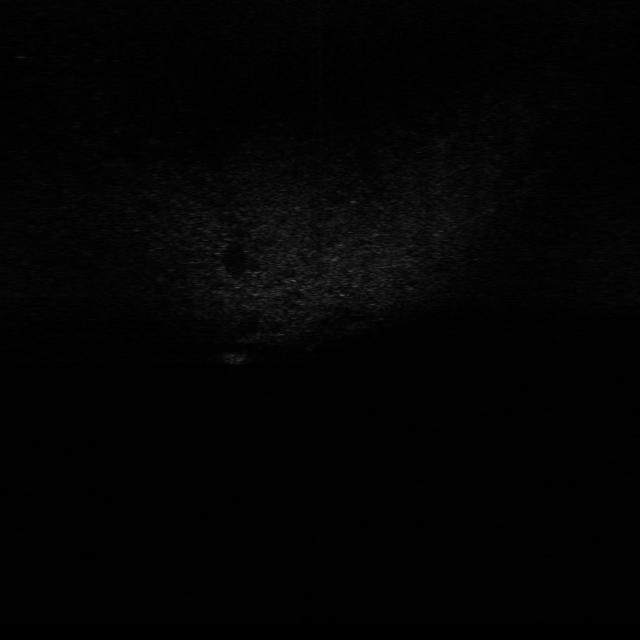cube: (220, 347, 250, 366)
